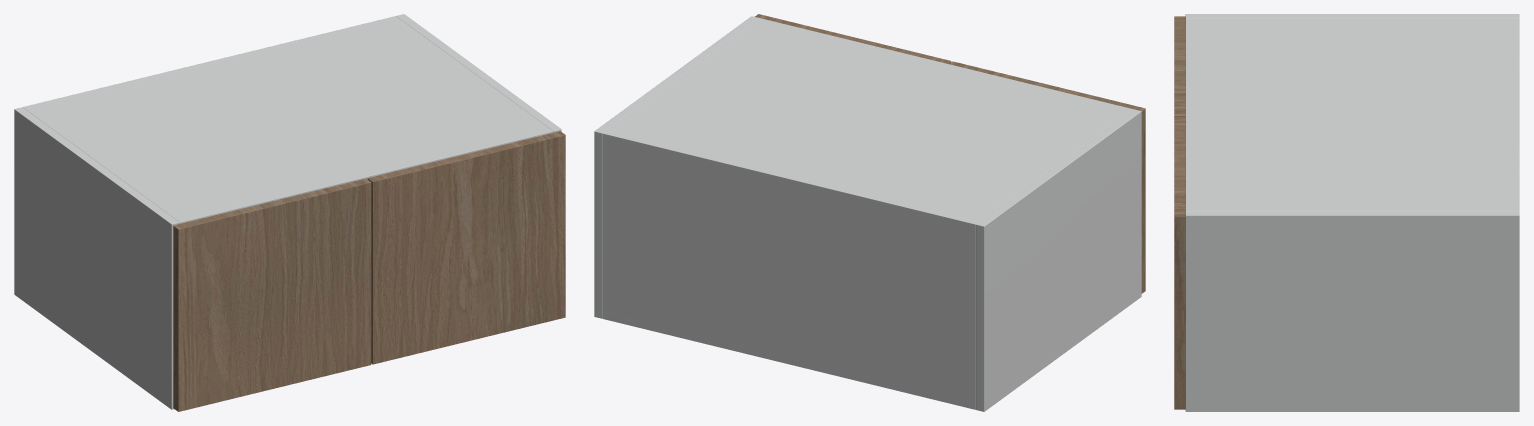
Rendered from oppein-ply-mnw-w331524.glb.
3 renders of one model, left to right at view 1: azimuth 30°, elevation 25°; view 2: azimuth 150°, elevation 25°; view 3: azimuth 270°, elevation 25°, orthographic. The views are drawn at different scales.
Visible parts, largest first — view 1: Cabinet top, Door, Door.001, Cabinet side, Cabinet side.001, Cabinet back; view 2: Cabinet back, Cabinet top, Cabinet side, Cabinet side.001, Cabinet bottom, Door, Door.001; view 3: Cabinet side.001, Cabinet top, Door.001, Cabinet side, Cabinet back, Door.
Part boxes in pixels (x1,y1,x2,y2): Cabinet top: (23, 16, 553, 223); Door: (173, 178, 371, 411); Door.001: (367, 131, 565, 364); Cabinet side: (14, 107, 179, 409); Cabinet side.001: (396, 14, 561, 132); Cabinet back: (23, 16, 398, 108); Cabinet back: (602, 131, 978, 409); Cabinet top: (603, 18, 1133, 232); Cabinet side: (976, 109, 1141, 411); Cabinet side.001: (594, 16, 759, 318); Cabinet bottom: (602, 311, 975, 409); Door: (949, 61, 1145, 293); Door.001: (755, 14, 951, 63); Cabinet side.001: (1185, 211, 1519, 411); Cabinet top: (1185, 18, 1519, 211); Door.001: (1174, 116, 1185, 409); Cabinet side: (1185, 14, 1519, 18); Cabinet back: (1513, 18, 1519, 211); Door: (1174, 16, 1185, 116).
Bounding box in the file's own units: 0.8382 × 0.381 × 0.6064.
2 materials, 1 textured.
